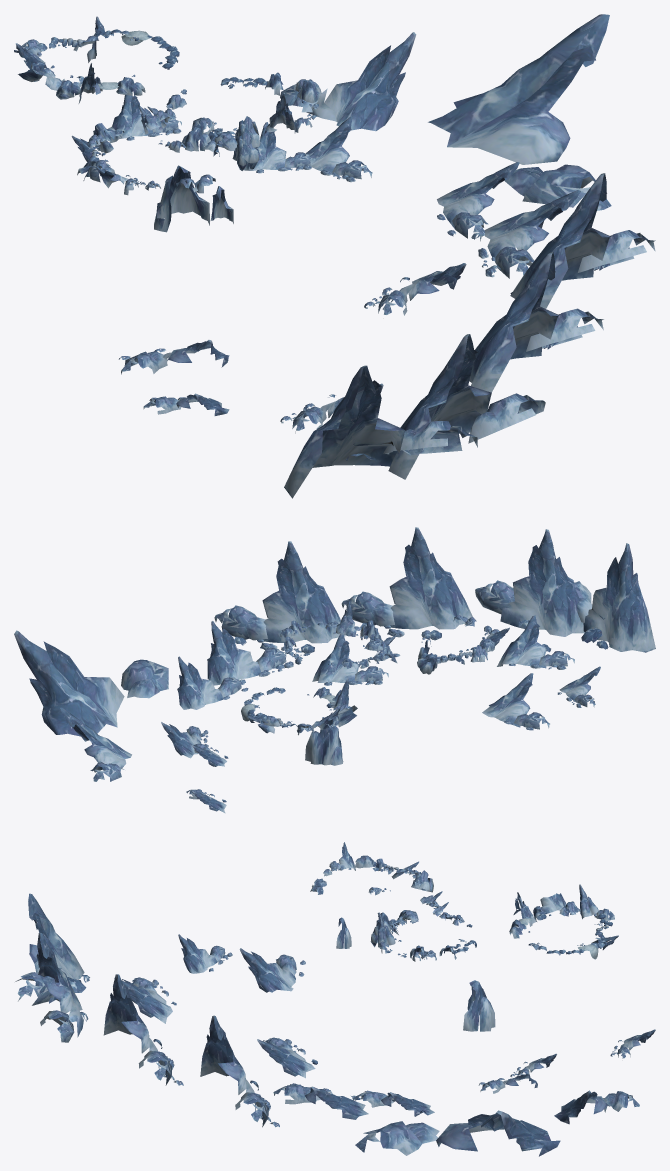
File: snow_02_stone_01.FBX
3 views of the same model, one above another, from view 1: azimuth 30°, elevation 25°; view 2: azimuth 150°, elevation 25°; view 3: azimuth 270°, elevation 25° (orthographic). The views are drawn at different scales.
Visible parts, largest first — view 1: stone1; view 2: stone1; view 3: stone1.
Part boxes in pixels (x1,y1,x2,y2): stone1: (14,14,655,498); stone1: (14,527,655,813); stone1: (15,842,655,1156).
Bounding box in the file's own units: 319 × 87.6 × 377.
